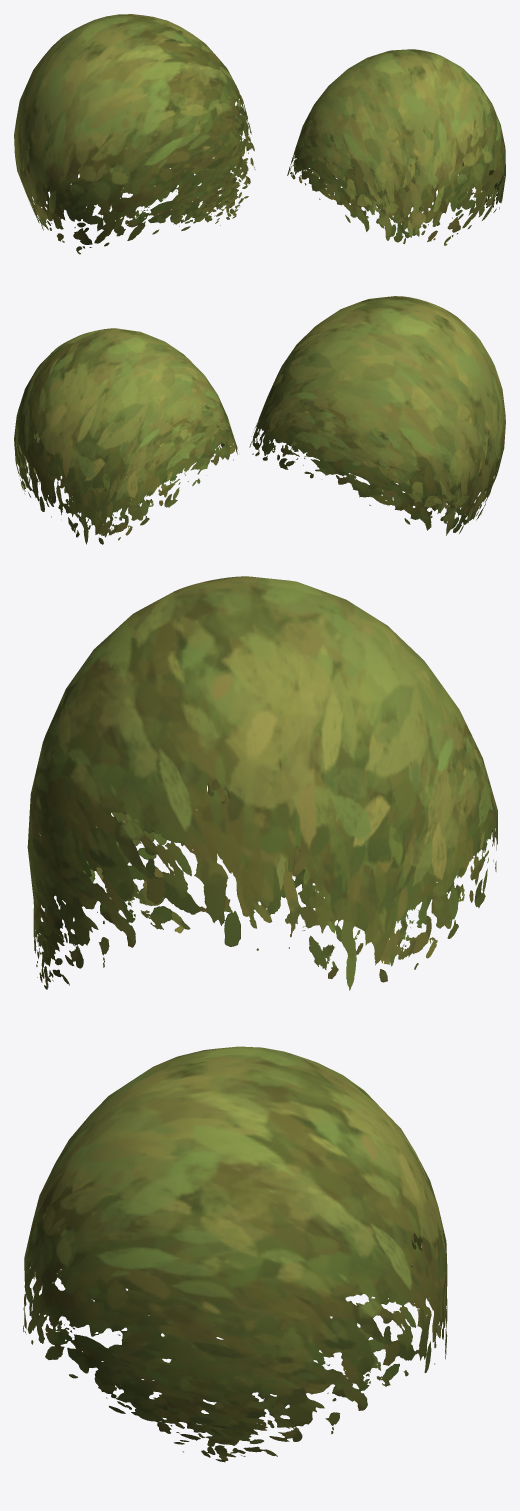
The model's file is wierzba liscie.fbx.
3 renders of one model, top to bottom at view 1: azimuth 30°, elevation 25°; view 2: azimuth 150°, elevation 25°; view 3: azimuth 270°, elevation 25°, orthographic. The views are drawn at different scales.
Visible parts, largest first — view 1: Wierzba_1_L2; view 2: Wierzba_1_L2; view 3: Wierzba_1_L2.
Boxes of the visible parts, left/top/right/bottom form: Wierzba_1_L2: left=14, top=14, right=505, bottom=254; Wierzba_1_L2: left=14, top=296, right=505, bottom=544; Wierzba_1_L2: left=23, top=576, right=497, bottom=1462.
Size of the model in its own units: 223 by 133 by 101.
Materials: 1 (1 with a texture image).
